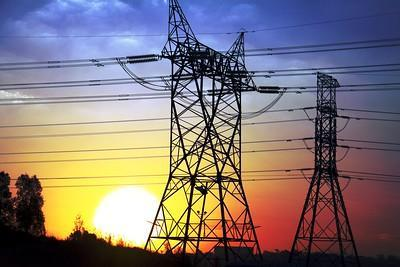power_tower: (151, 0, 275, 261), (293, 66, 358, 261)
